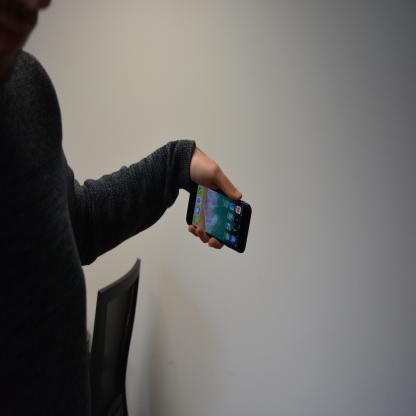smartphone: (186, 180, 252, 254)
